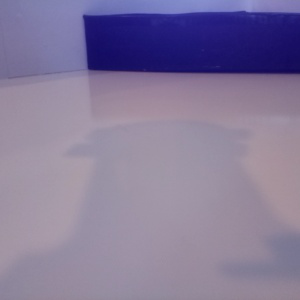zone: (83, 11, 300, 73)
